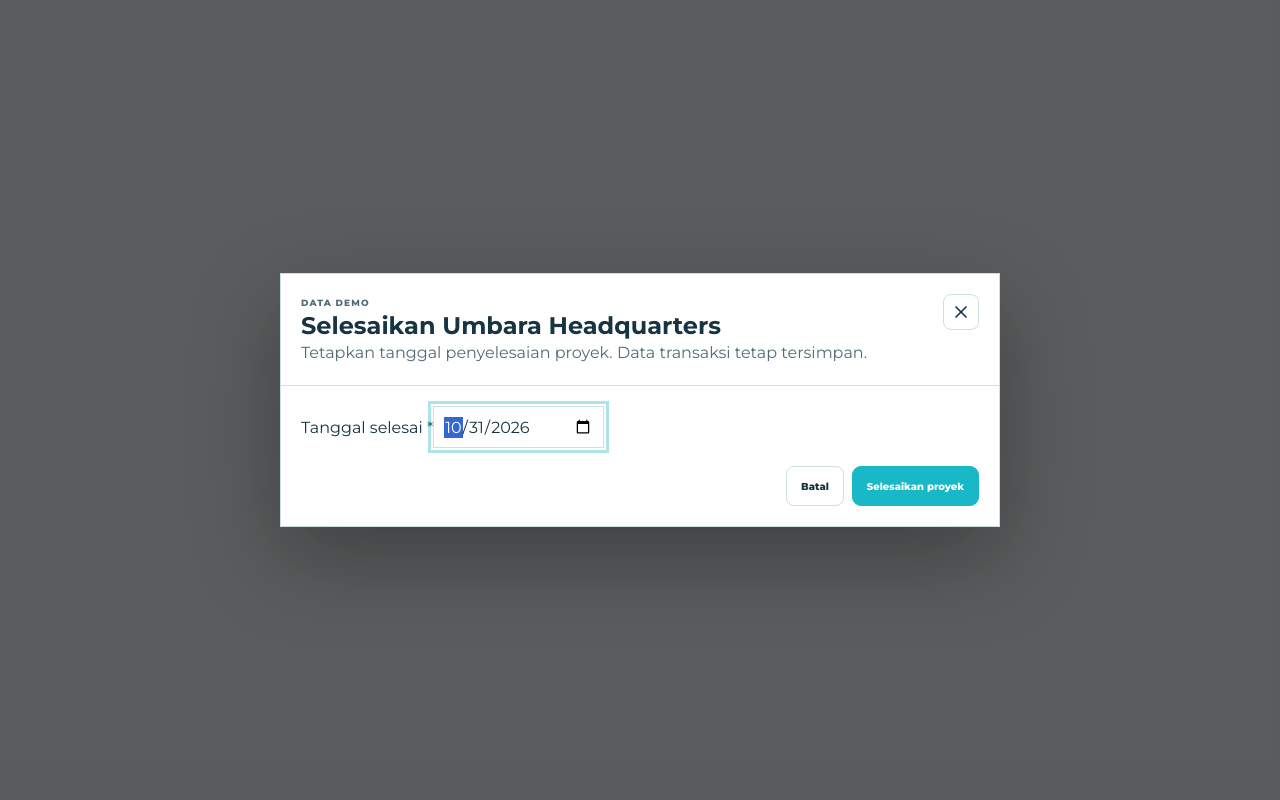
Test: ProjectCompleteDialog › keeps the dialog open and reports an invalid completion date
Step 1. Type "2026-10-19" into the date field labelled "Tanggal selesai *" → (519, 427), box [433,406,604,448]
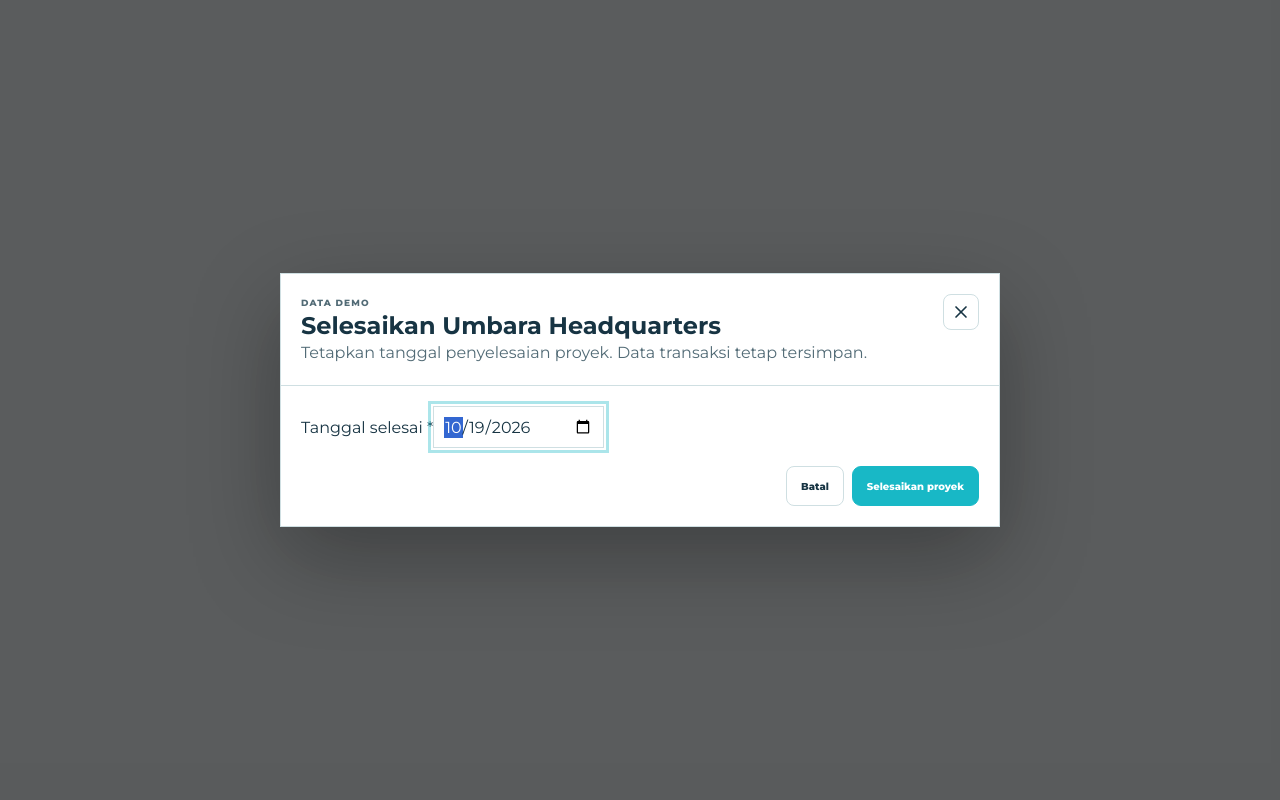
Step 2. Submit the form "Selesaikan proyek", box [281,386,999,526]
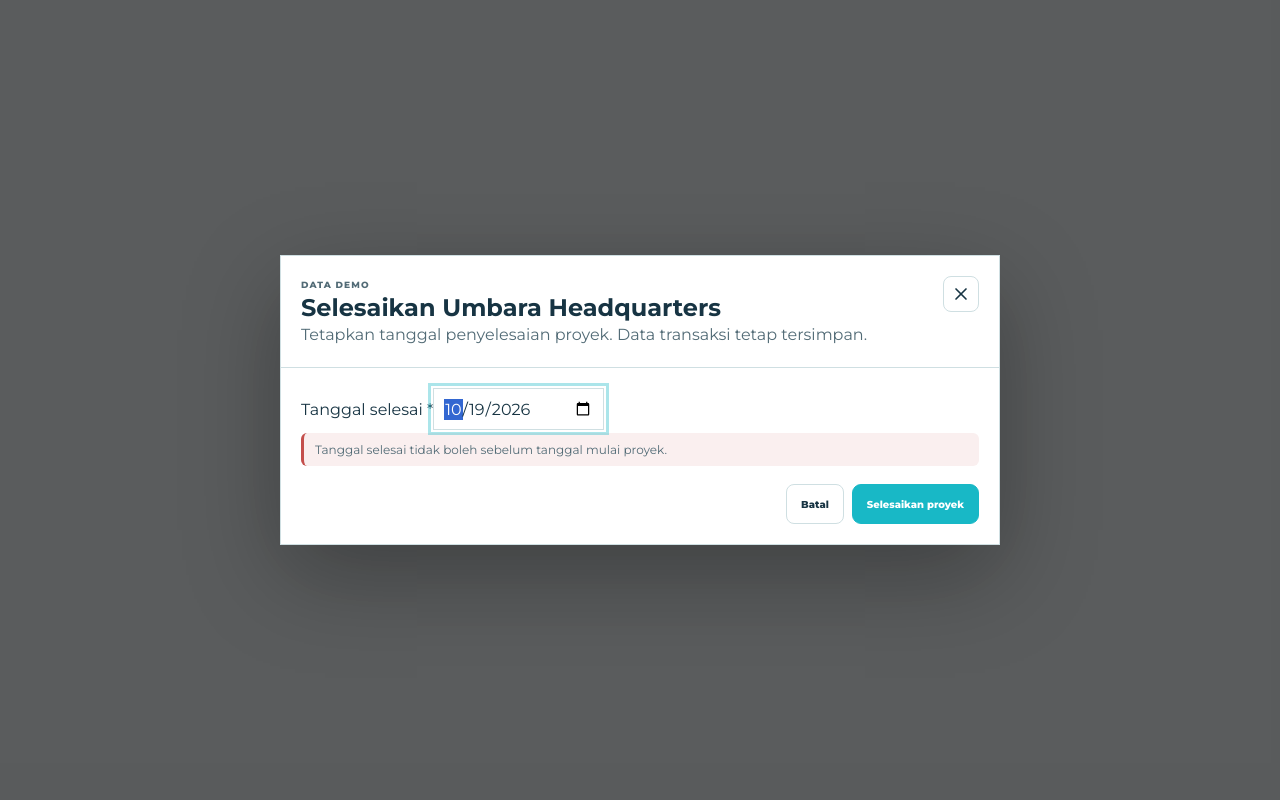
Expected: the dialog is shown, [280,255,1000,545]
Result: the message shows "Tanggal selesai tidak boleh sebelum tanggal mulai" at [315,442,667,457]
